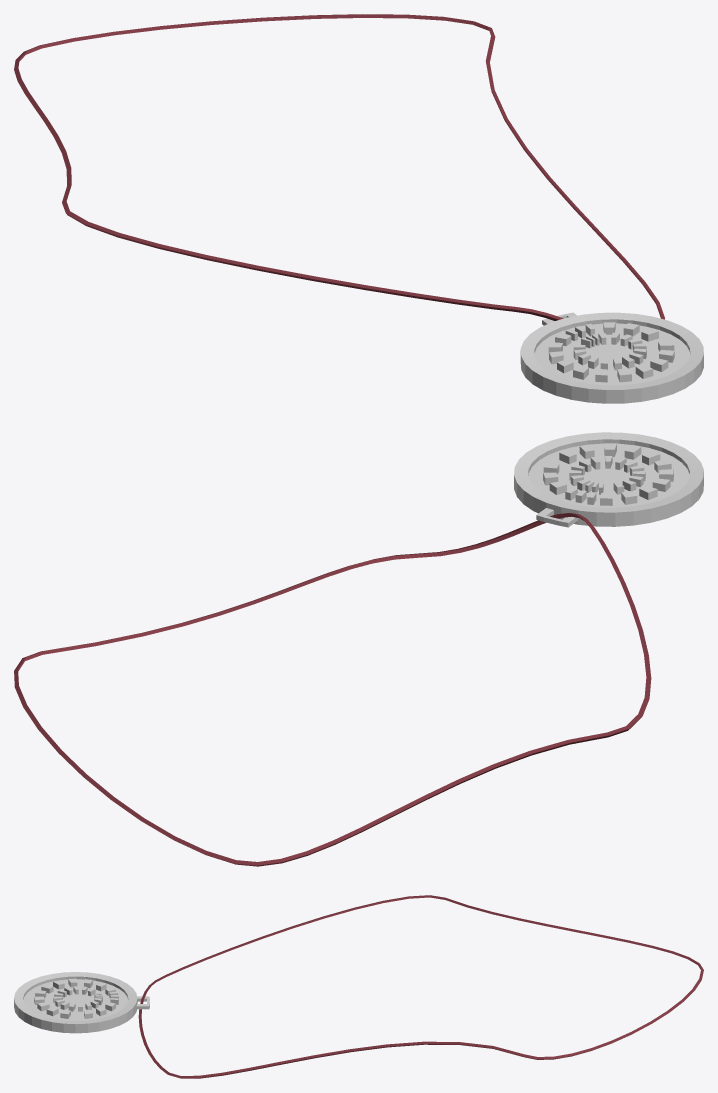
Rendered from medal.fbx.
3 views of the same model, one above another, from view 1: azimuth 30°, elevation 25°; view 2: azimuth 150°, elevation 25°; view 3: azimuth 270°, elevation 25° (orthographic). The views are drawn at different scales.
Parts seen in each view (by area): view 1: Circle, BezierCurve; view 2: Circle, BezierCurve; view 3: Circle, BezierCurve.
Part boxes in pixels (x1,y1,x2,y2): Circle: (520,312,703,403); BezierCurve: (14,14,664,320); Circle: (514,432,703,527); BezierCurve: (14,513,651,866); Circle: (14,972,149,1033); BezierCurve: (138,895,703,1078).
Bounding box in the file's own units: 636 × 94.98 × 1117.
